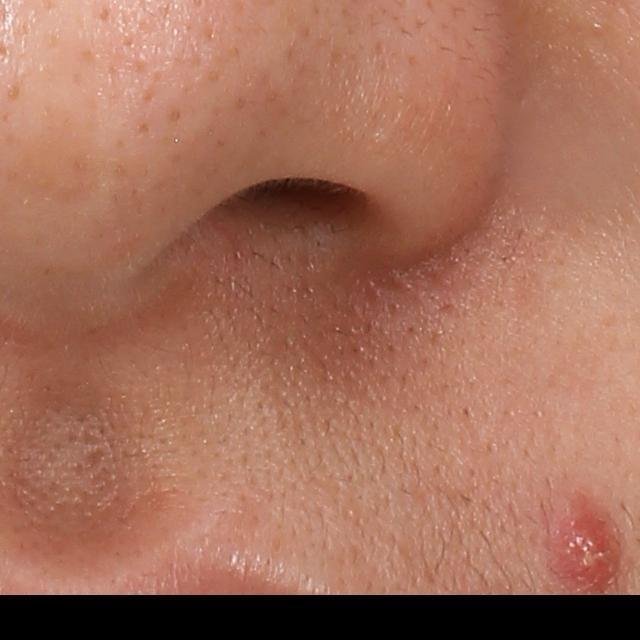papule: (566, 509, 610, 602)
